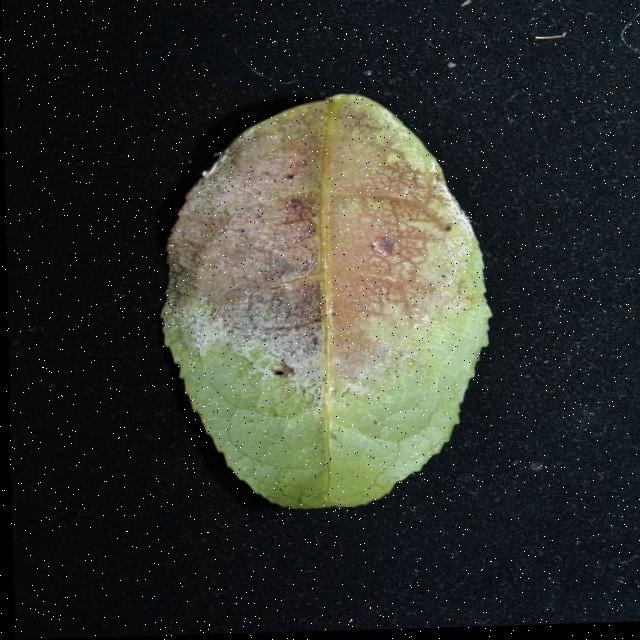Tea exobasidium blight: (161, 114, 448, 401)
